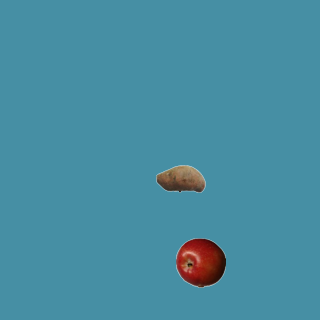Apple Braeburn: (175, 237, 225, 287)
Potato Sweet: (155, 153, 205, 203)
